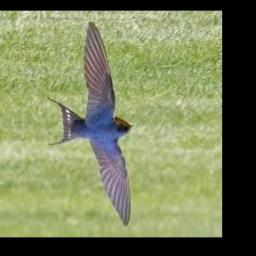Swallow: (48, 21, 134, 227)
